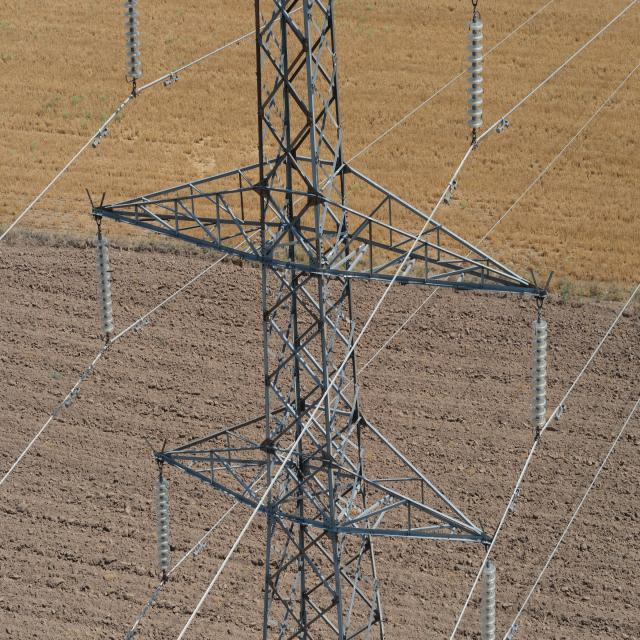direk: (159, 0, 489, 640)
